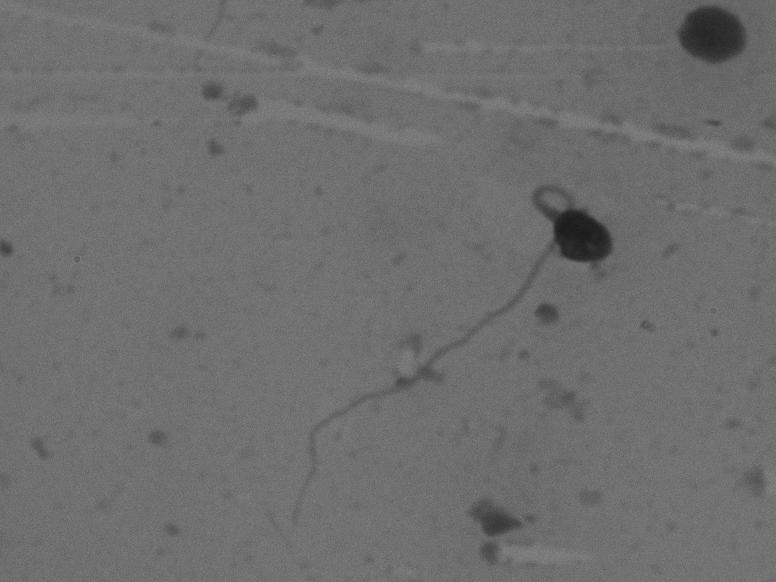Abnormal: (234, 161, 672, 531)
